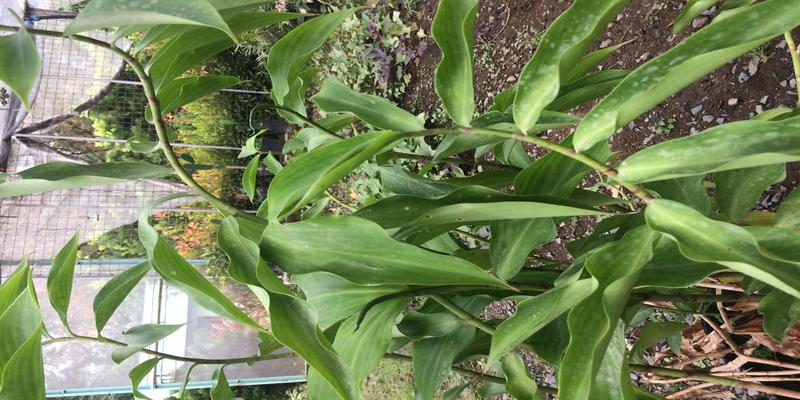Insulin: (172, 102, 774, 371)
